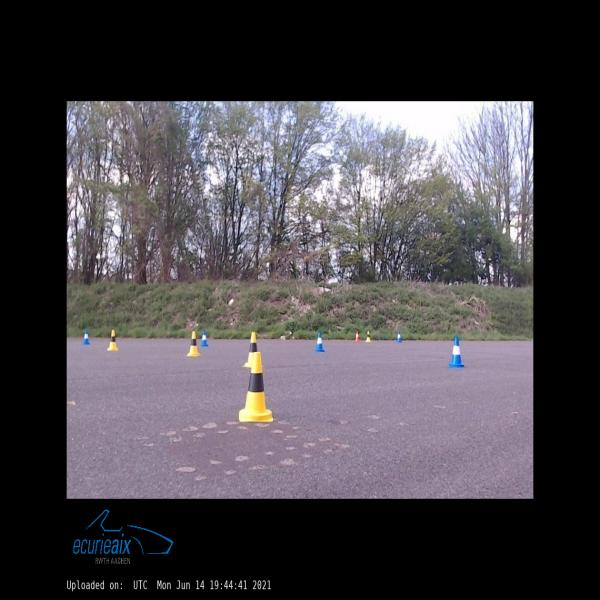blue_cone: (449, 337, 464, 367), (316, 332, 324, 351), (200, 331, 208, 346), (82, 330, 90, 344), (397, 330, 403, 343)
orange_cone: (354, 331, 360, 342)
yellow_cone: (239, 352, 273, 421), (243, 332, 257, 366), (186, 331, 201, 356), (107, 330, 118, 350), (366, 330, 372, 342)
